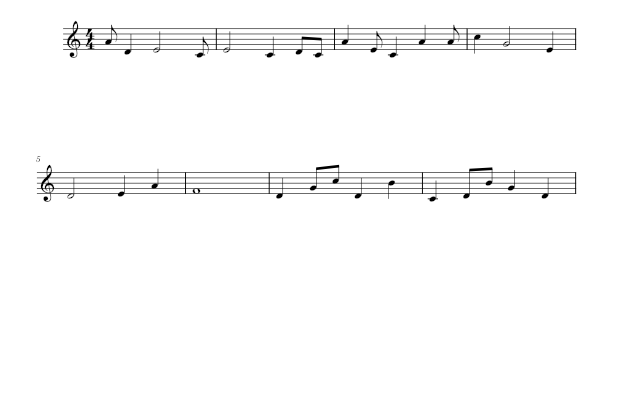Treble Clef: (62, 15, 82, 61), (37, 163, 58, 205)
